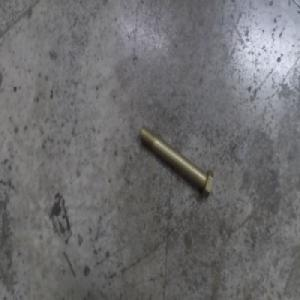Bolt: (139, 124, 214, 201)
